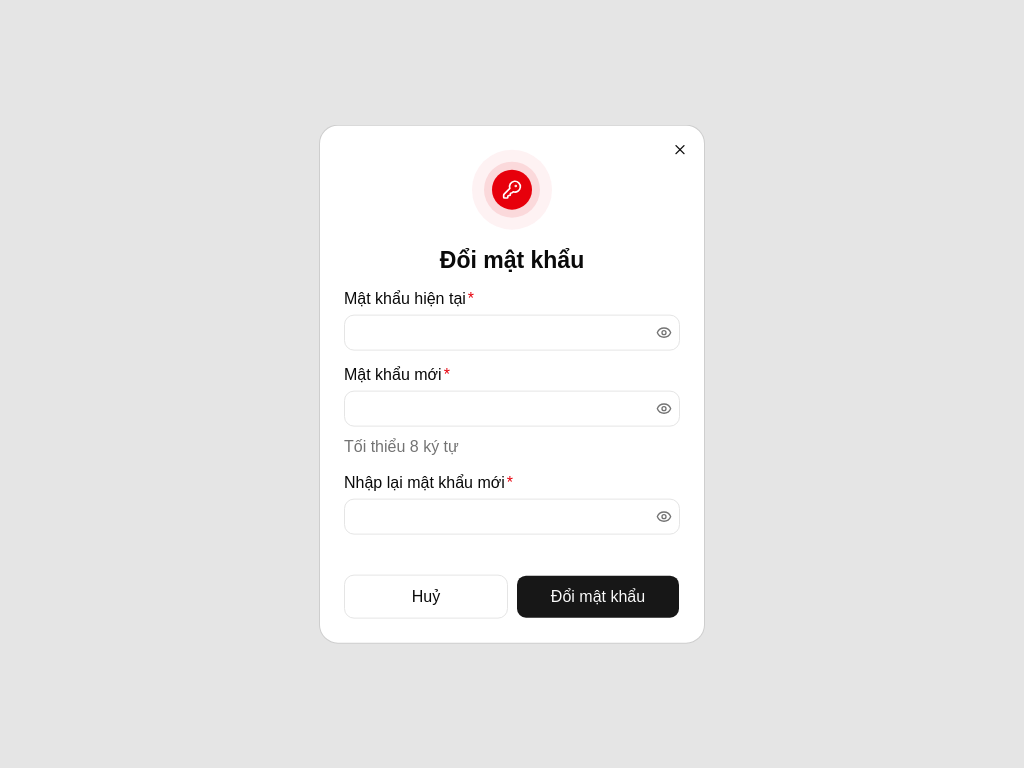
Test: ChangePasswordDialog › bỏ trống cả 3 ô → focus vào Mật khẩu hiện tại, không gửi request
Click the button "Đổi mật khẩu". click: coordinates (598, 596)
box: [516,574,680,618]
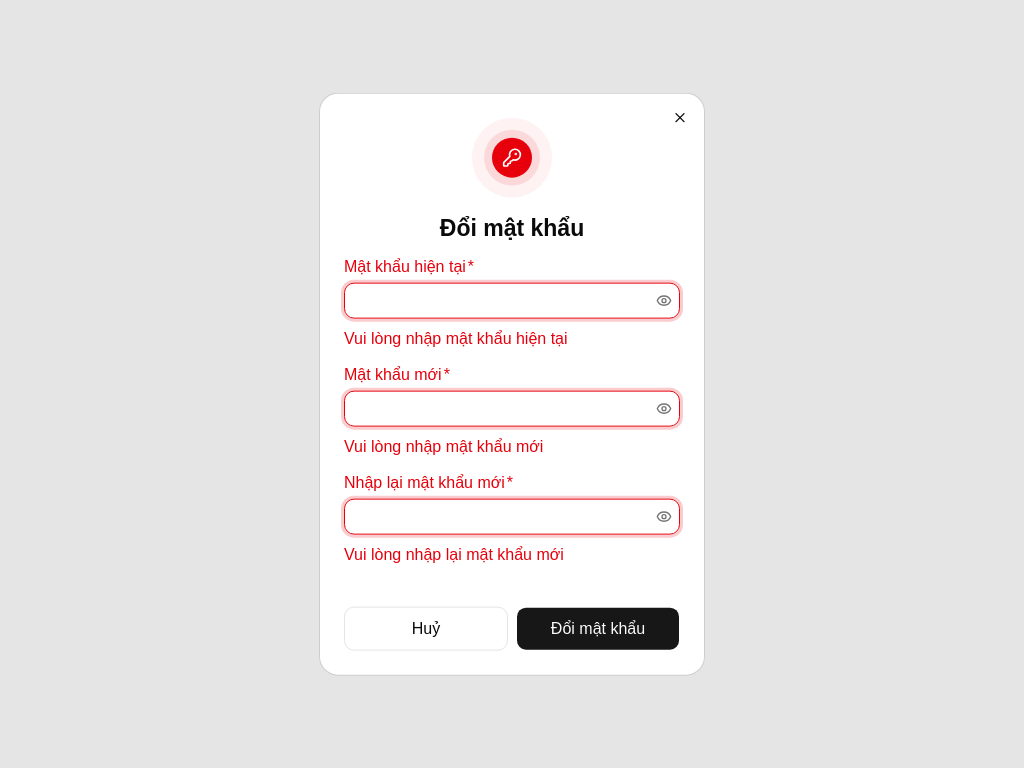
Result: the text "Vui lòng nhập mật khẩu hiện tại" is shown at [344,329,568,346]
